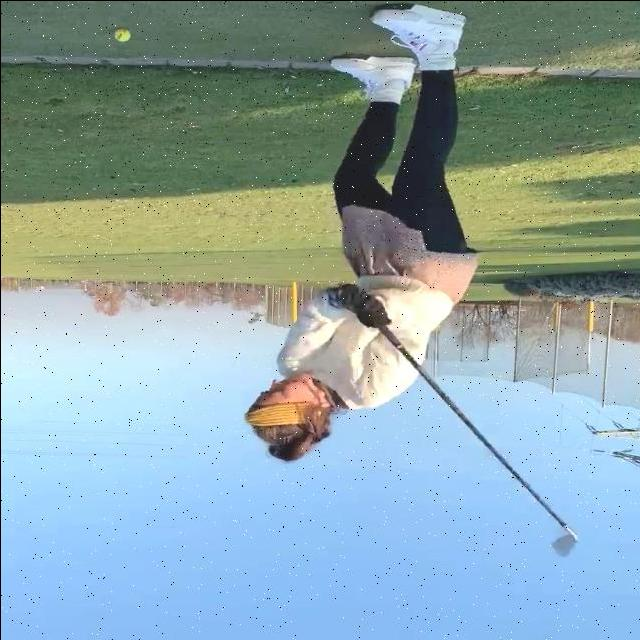ClubHandle: (337, 281, 581, 559)
ClubHead: (549, 534, 577, 557)
GolfBall: (113, 27, 129, 40)
